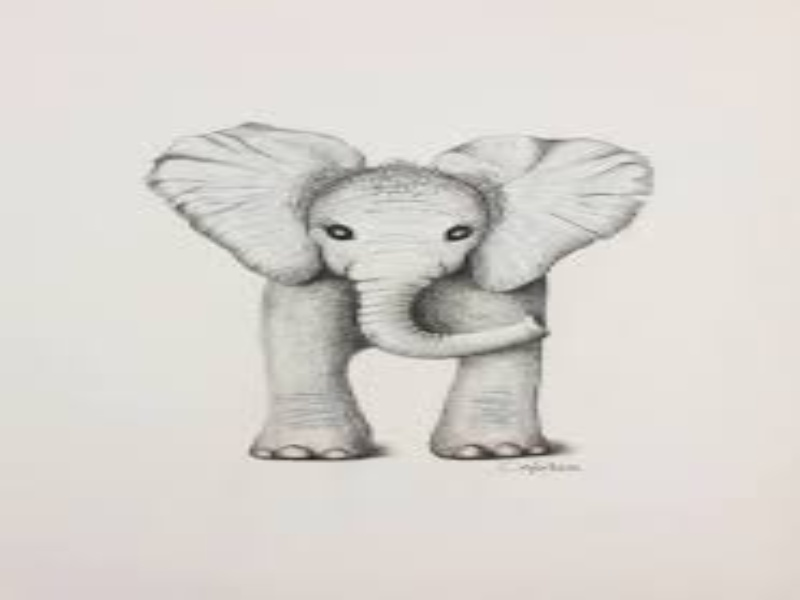elephant: (161, 118, 654, 479)
